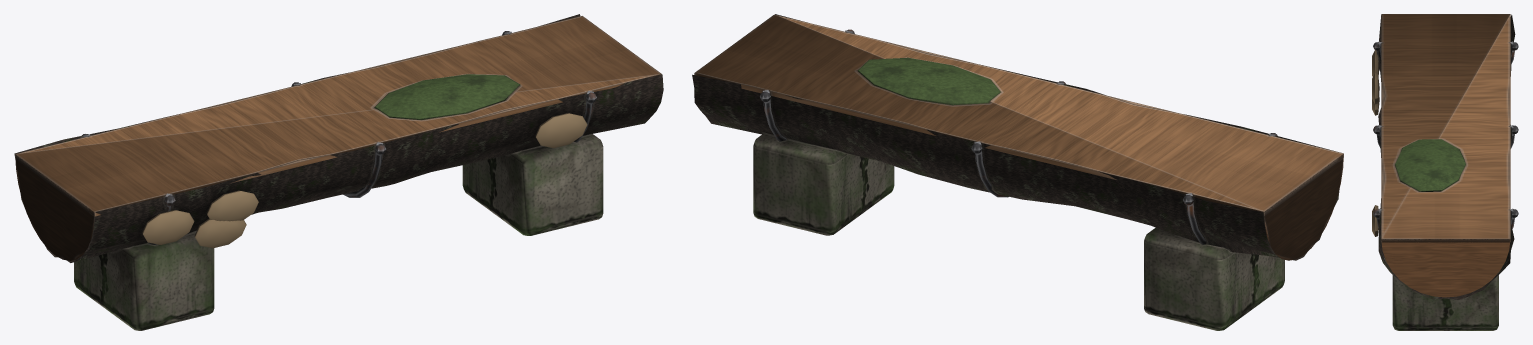
File: LogBench.fbx
3 renders of one model, left to right at view 1: azimuth 30°, elevation 25°; view 2: azimuth 150°, elevation 25°; view 3: azimuth 270°, elevation 25°, orthographic. The views are drawn at different scales.
Visible parts, largest first — view 1: LogBench; view 2: LogBench; view 3: LogBench.
Boxes of the visible parts, x1,y1,x2,y2 form: LogBench: (14, 14, 663, 330); LogBench: (692, 14, 1343, 330); LogBench: (1372, 14, 1518, 330).
Bounding box in the file's own units: 700 × 173 × 193.
